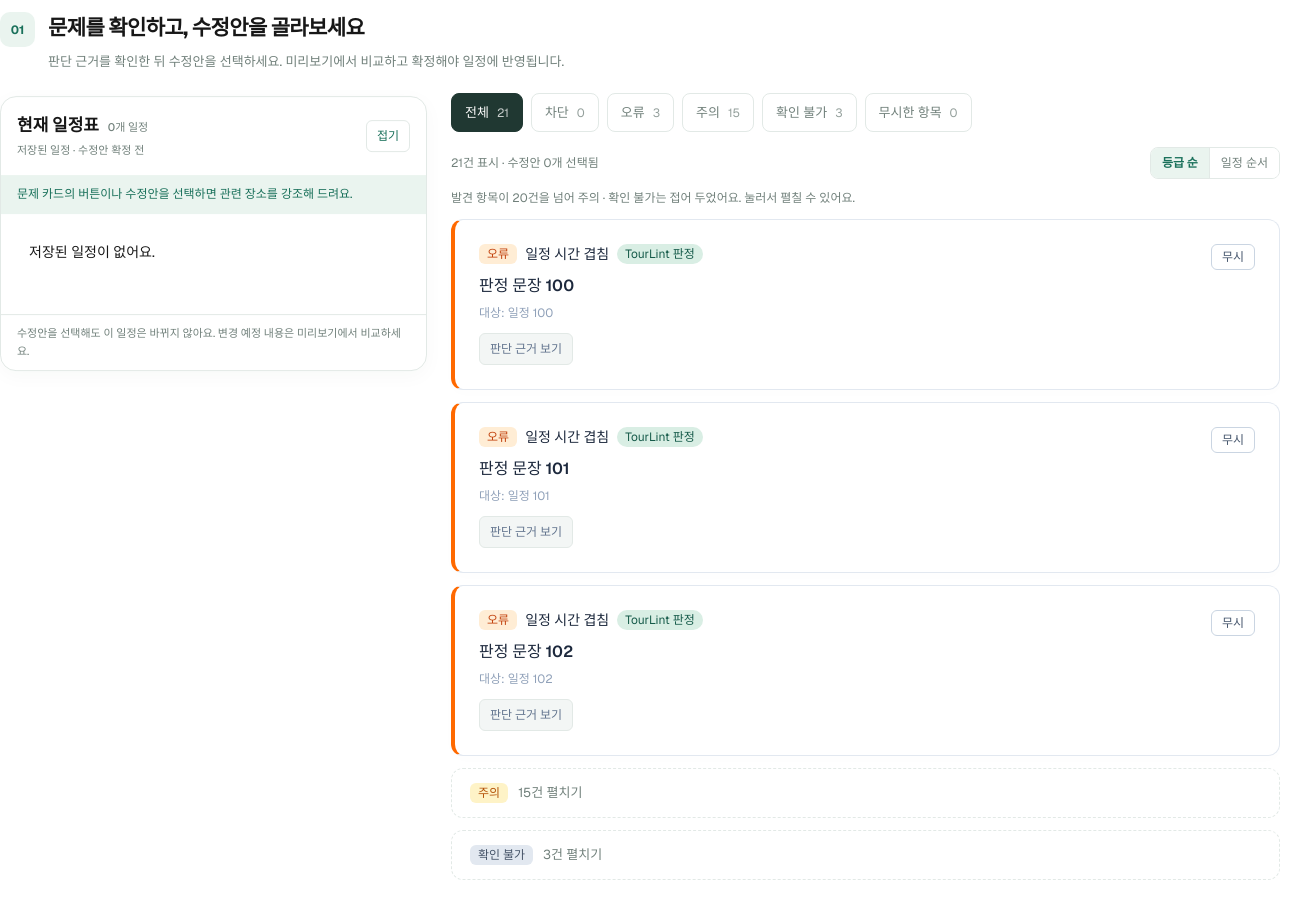
it: 20건이 넘을 때 (FR-AU-067 · UI-S3-021) › 🔴 「전체」에서 주의 · 확인 불가를 접고 건수를 적은 펼치기 버튼만 둔다
Click the button "주의 15건 펼치기".
click(489, 793)  # box [451,768,1280,818]
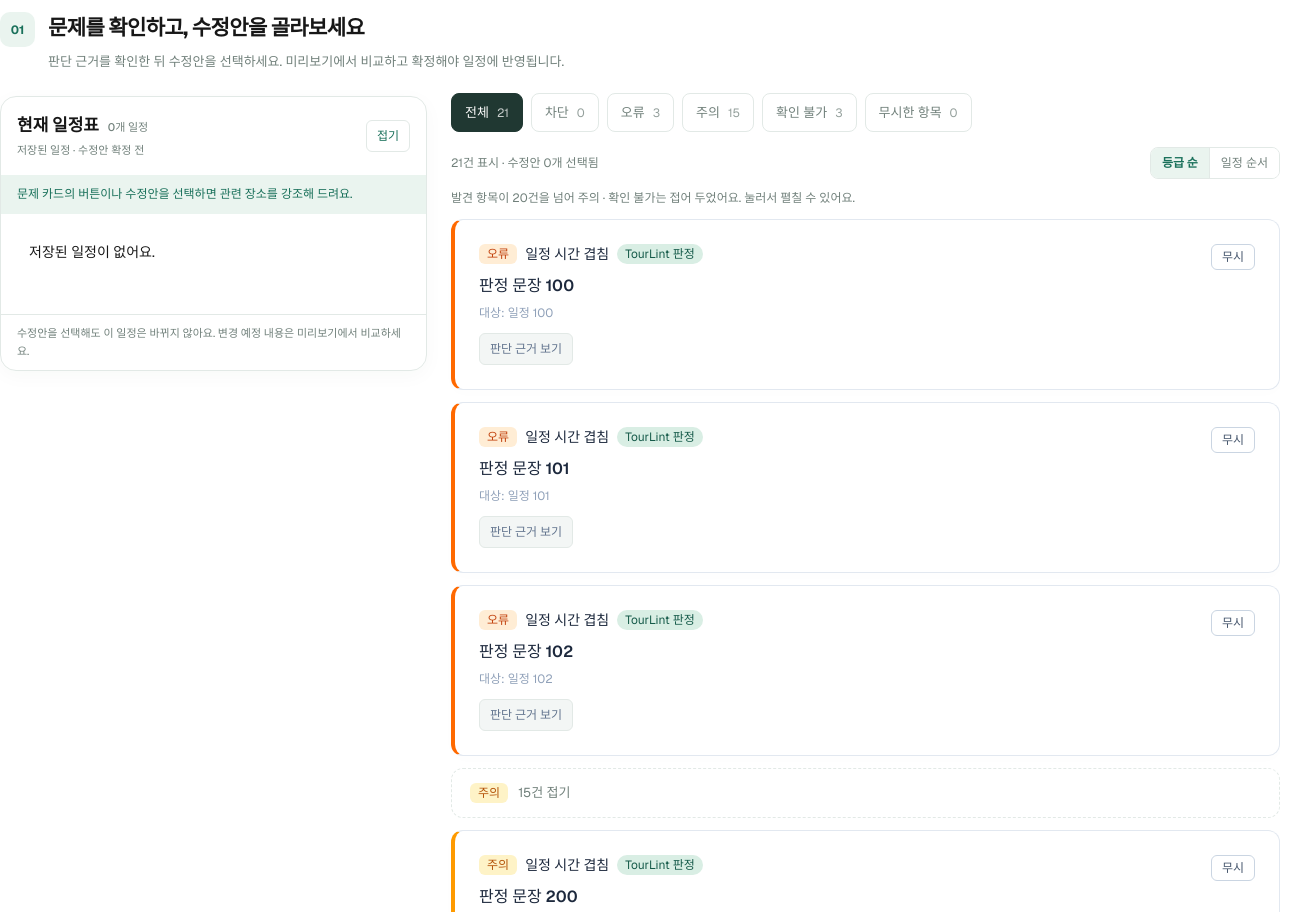
Result: the button "주의 15건 접기" is expanded at [451,768,1280,818]
